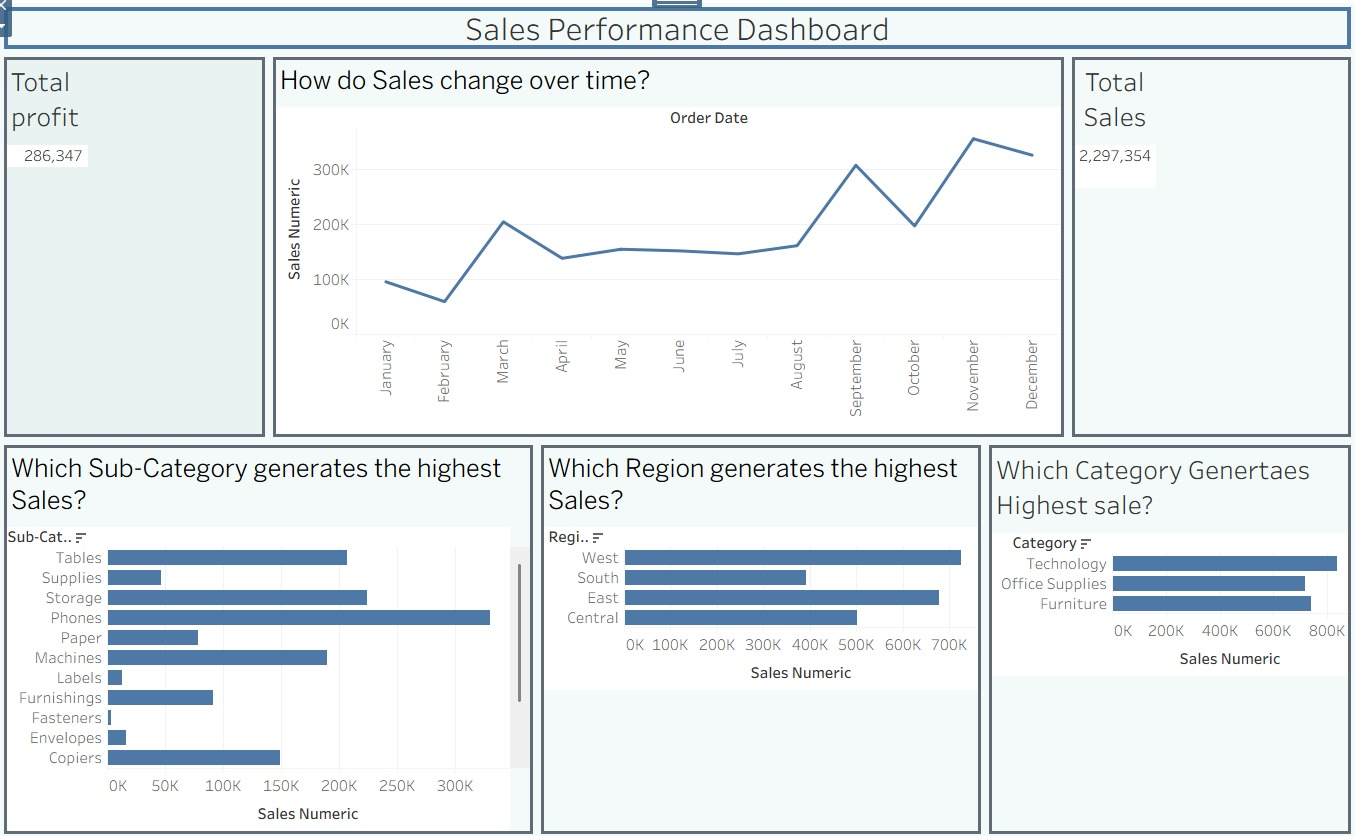

The page's visual inventory and layout, read from the dashboard file:
{"tool":"tableau","page":{"name":"Sales Performace Dahsboard ","canvas":[1000,1000],"units":"permille","ordinal":1},"visuals":[{"type":"title","box":[6.4,9.4,987.3,58.8]},{"type":"worksheet","title":"Sheet 1","mark":"Automatic","box":[6.4,68.2,196.2,455.9]},{"type":"worksheet","title":"Sheet 6","mark":"Automatic","rows":["Calculation_585467997247004673"],"cols":["Order Date"],"box":[202.6,68.2,582,455.9]},{"type":"worksheet","title":"Sheet 2","mark":"Automatic","box":[784.6,68.2,209,455.9]},{"type":"worksheet","title":"Sheet 4","mark":"Automatic","rows":["Sub-Category"],"cols":["Calculation_585467997247004673"],"box":[6.4,524.1,391.3,466.5]},{"type":"worksheet","title":"Sheet 5","mark":"Automatic","rows":["Region"],"cols":["Calculation_585467997247004673"],"box":[397.6,524.1,326.3,466.5]},{"type":"worksheet","title":"Sheet 3","mark":"Automatic","rows":["Category"],"cols":["Calculation_585467997247004673"],"box":[723.9,524.1,269.8,466.5]}]}

Visuals, with their boxes on the dashboard's canvas, which has no fixed pixel size, in thousandths of its width and height (x1, y1, x2, y2). These are canvas units, not pixel positions in the 1359x836 screenshot, which may show the page scaled, cropped or inside an application window:
title: locate(6, 9, 994, 68)
"Sheet 1" worksheet: locate(6, 68, 203, 524)
"Sheet 6" worksheet: locate(203, 68, 785, 524)
"Sheet 2" worksheet: locate(785, 68, 994, 524)
"Sheet 4" worksheet: locate(6, 524, 398, 991)
"Sheet 5" worksheet: locate(398, 524, 724, 991)
"Sheet 3" worksheet: locate(724, 524, 994, 991)
